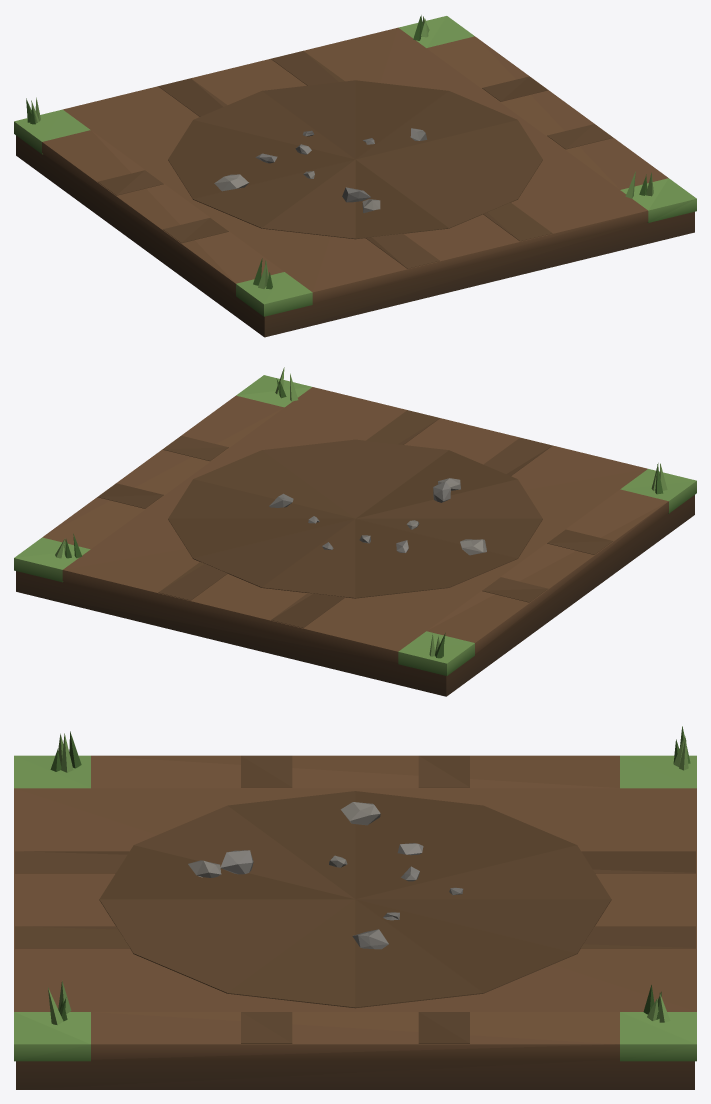
Rendered from road-dirt-4way.glb.
The picture shows the model from 3 angles, top to bottom: view 1: azimuth 30°, elevation 25°; view 2: azimuth 150°, elevation 25°; view 3: azimuth 270°, elevation 25°; orthographic projection. The views are drawn at different scales.
Parts seen in each view (by area): view 1: road_dirt_4way; view 2: road_dirt_4way; view 3: road_dirt_4way.
Part boxes in pixels (<box>): road_dirt_4way: <box>14,15,696,337</box>; road_dirt_4way: <box>14,367,696,696</box>; road_dirt_4way: <box>14,726,696,1089</box>.
Size of the model in its own units: 4 by 0.5432 by 4.
